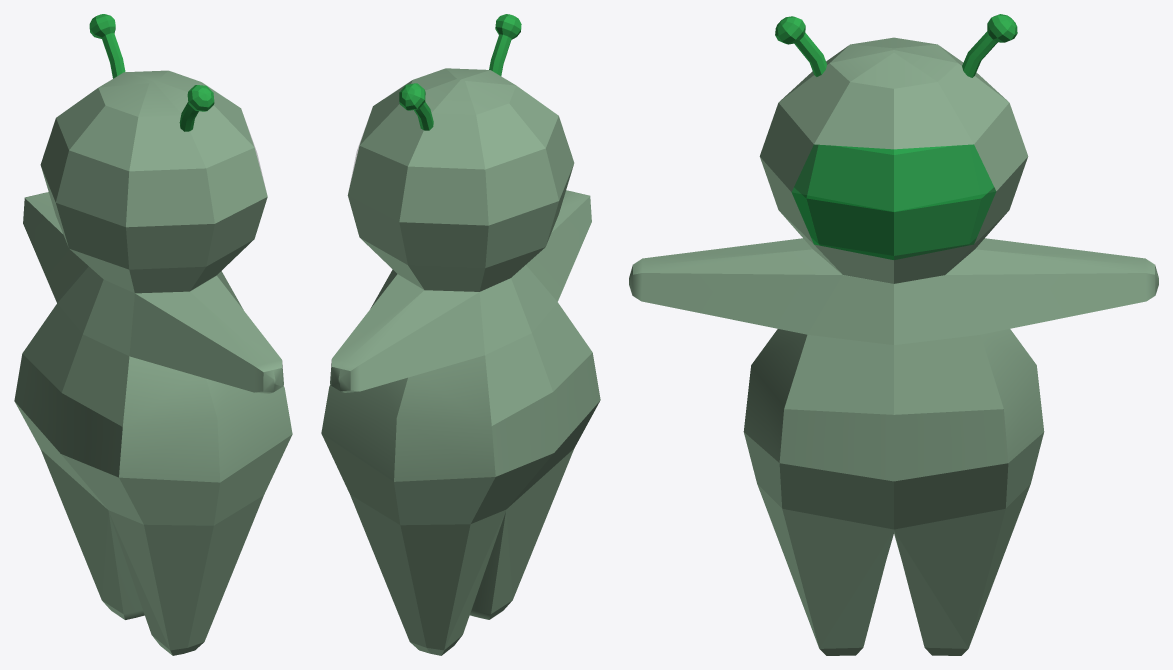
File: Character_Alien_001.fbx.fbx
3 views of the same model, side by side, from view 1: azimuth 30°, elevation 25°; view 2: azimuth 150°, elevation 25°; view 3: azimuth 270°, elevation 25° (orthographic). The views are drawn at different scales.
Visible parts, largest first — view 1: character_alien; view 2: character_alien; view 3: character_alien.
Part boxes in pixels (x1=…): character_alien: x1=14, y1=14, x2=292, y2=655; character_alien: x1=321, y1=14, x2=600, y2=655; character_alien: x1=629, y1=14, x2=1158, y2=655.
Bounding box in the file's own units: 259 × 716 × 539.
